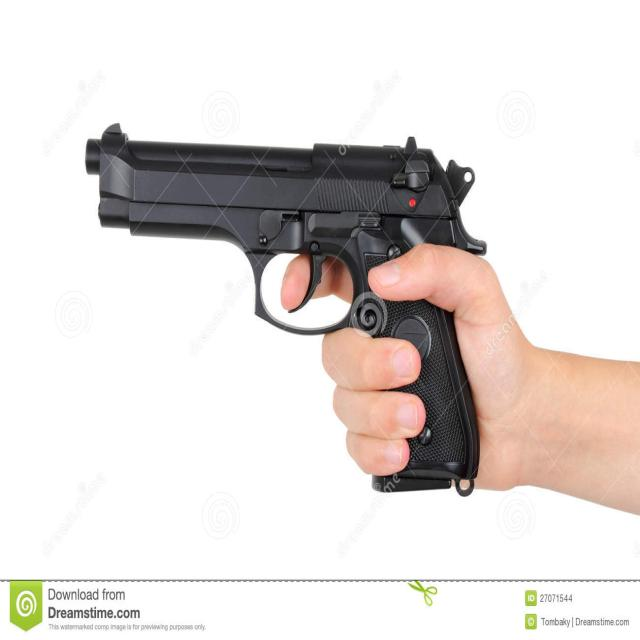HandGun: (85, 125, 488, 499)
